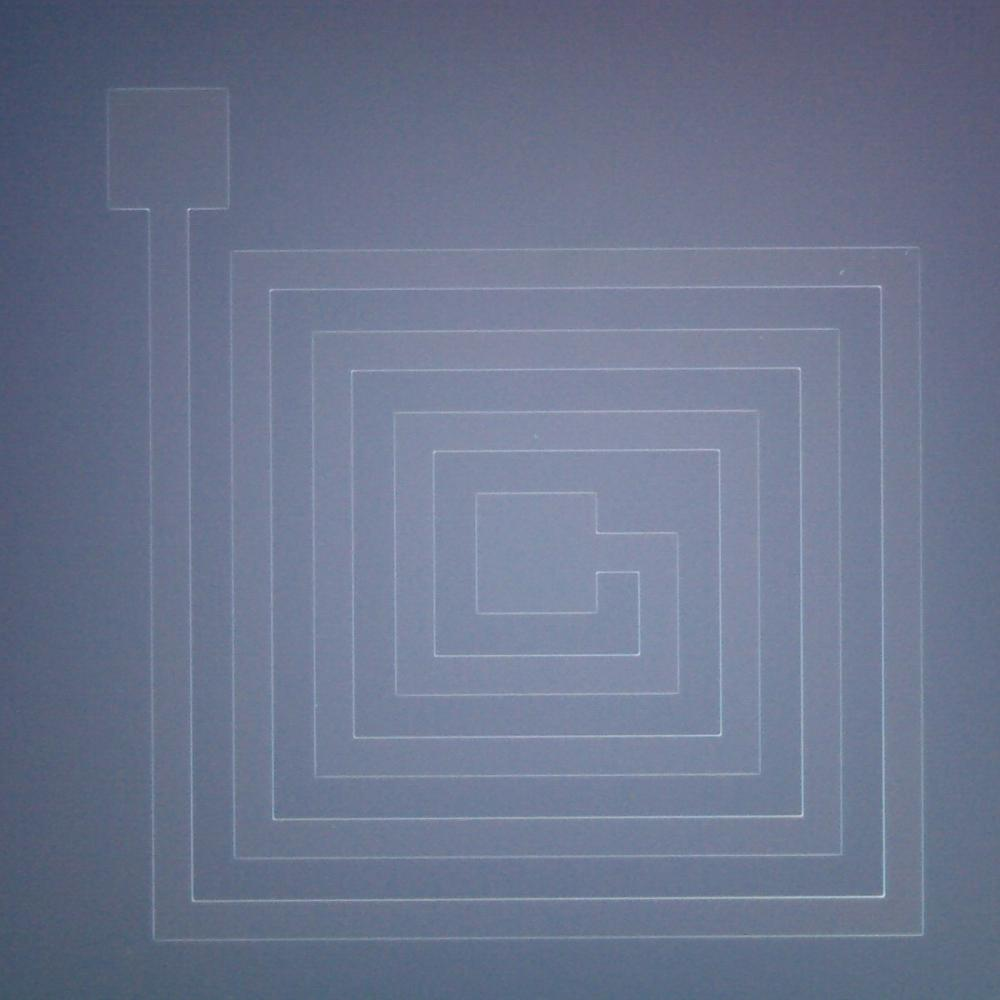dot: (534, 434, 538, 439), (840, 270, 844, 274)
